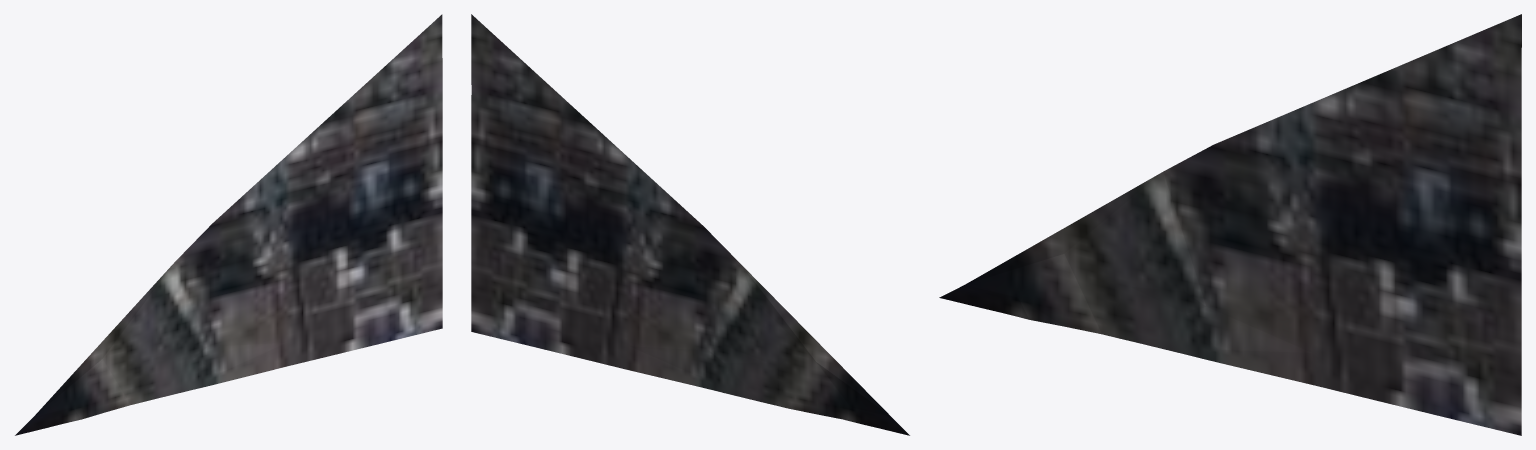
3 renders of one model, left to right at view 1: azimuth 30°, elevation 25°; view 2: azimuth 150°, elevation 25°; view 3: azimuth 330°, elevation 25°, orthographic. The views are drawn at different scales.
Parts seen in each view (by area): view 1: 0_3_1_3; view 2: 0_3_1_3; view 3: 0_3_1_3.
Part boxes in pixels (box(x1,y1,x2,y2)): 0_3_1_3: box(15, 14, 442, 435); 0_3_1_3: box(471, 14, 909, 435); 0_3_1_3: box(939, 14, 1521, 435).
Size of the model in its own units: 227 by 158 by 3.11.
Materials: 1 (1 with a texture image).
